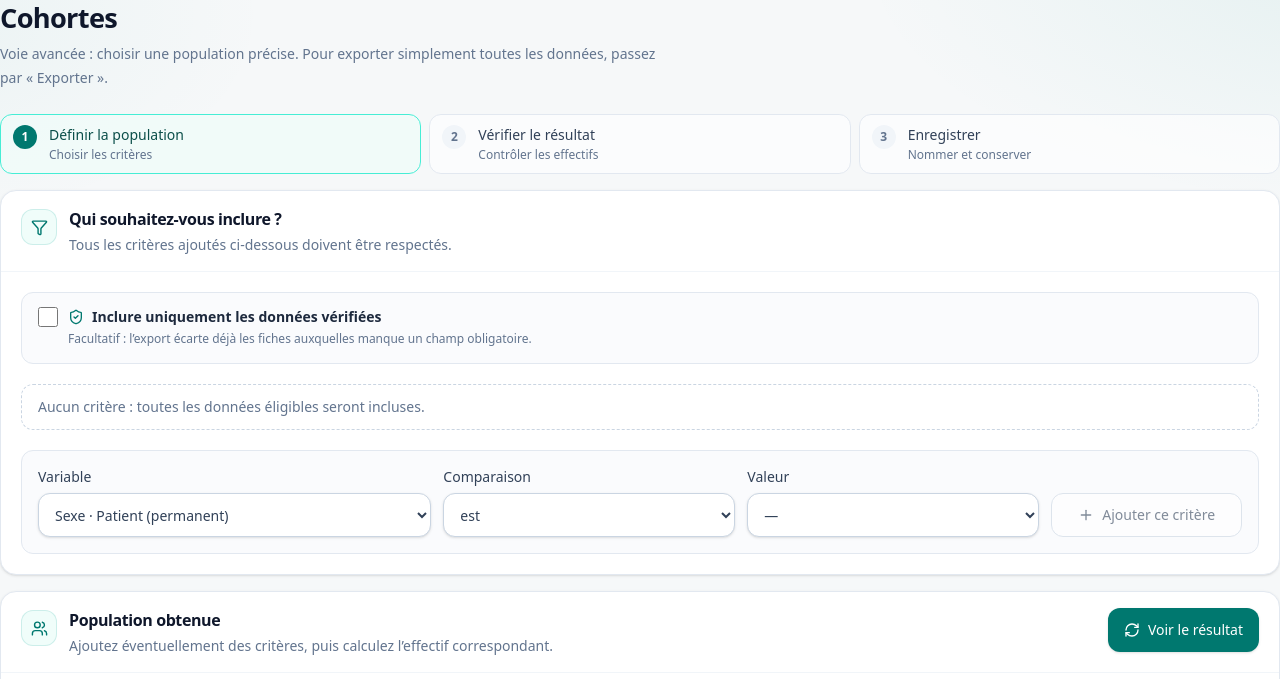
CohortBuilder › audit externe : une valeur non numerique sur un champ nombre est refusee AVANT l ajout
Expected: the heading "Cohortes" is shown, [0, 0, 117, 36]
Expected: the dropdown labelled "Valeur" is shown, [747, 493, 1039, 537]
Select "Poids · Patient (permanent)" in the dropdown labelled "Variable" at (235, 515), box [38, 493, 431, 537]
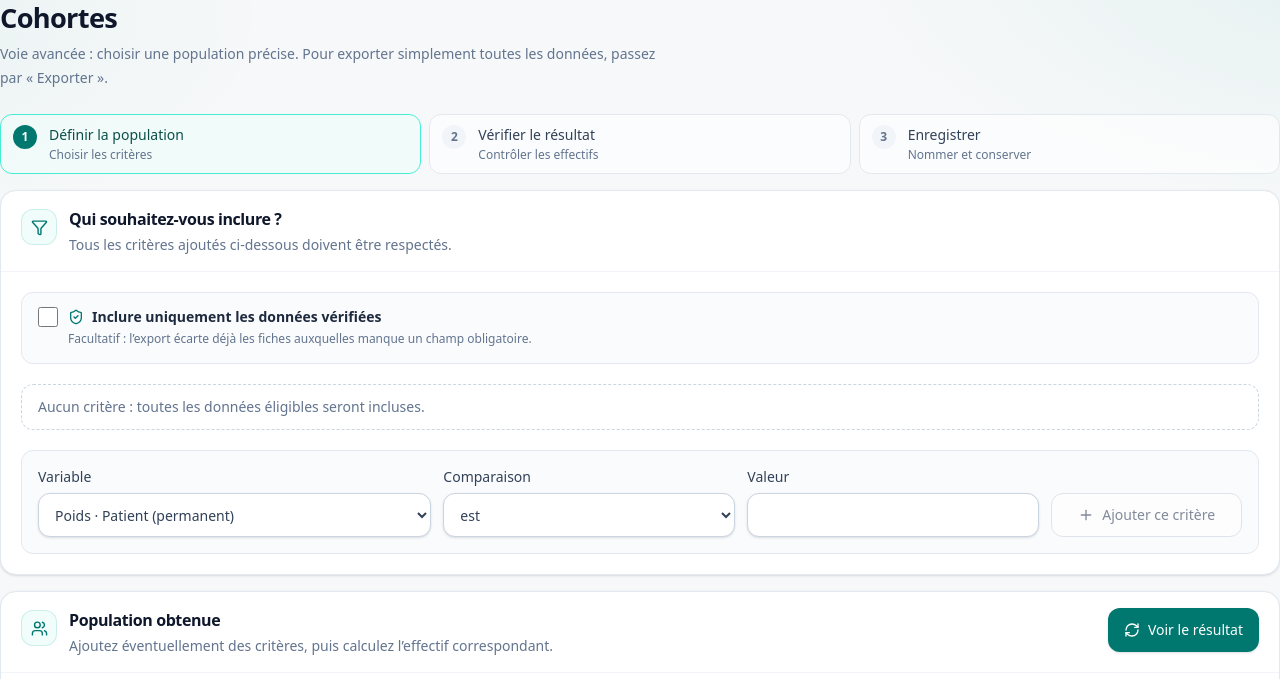
Type "abc" into the field labelled "Valeur" at (893, 515), box [747, 493, 1039, 537]
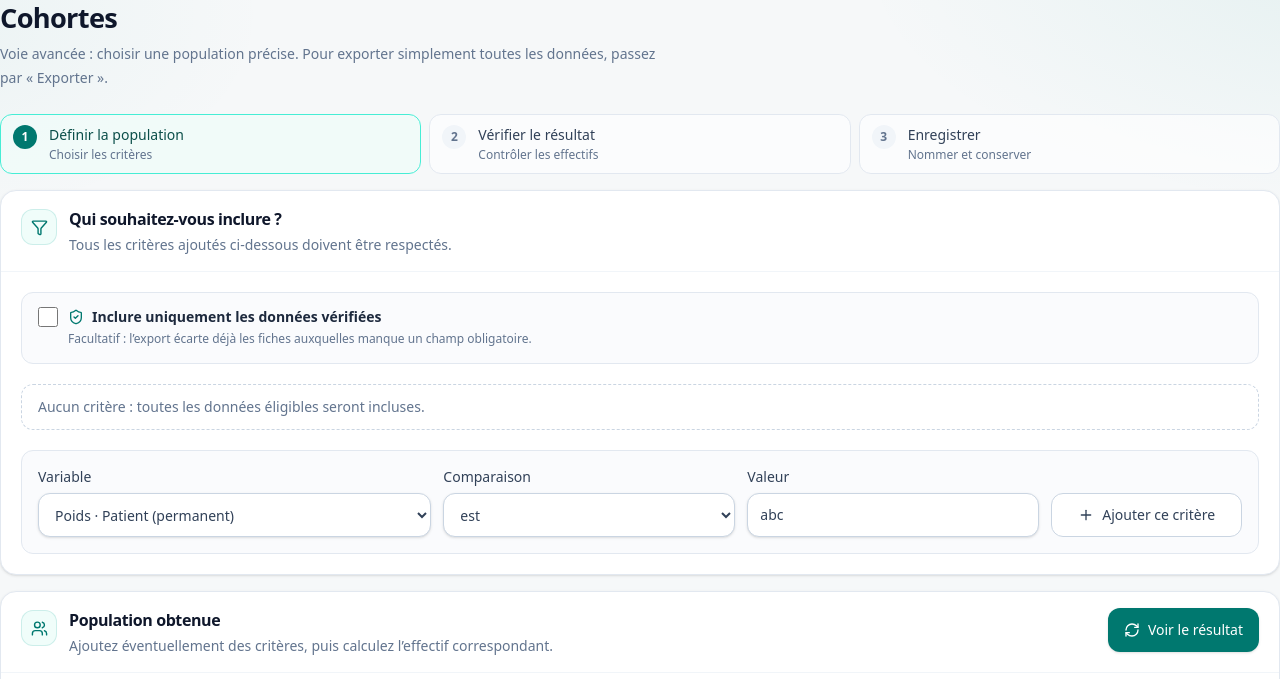
Click the button "Ajouter ce critère" at (1147, 515), box [1051, 493, 1242, 537]
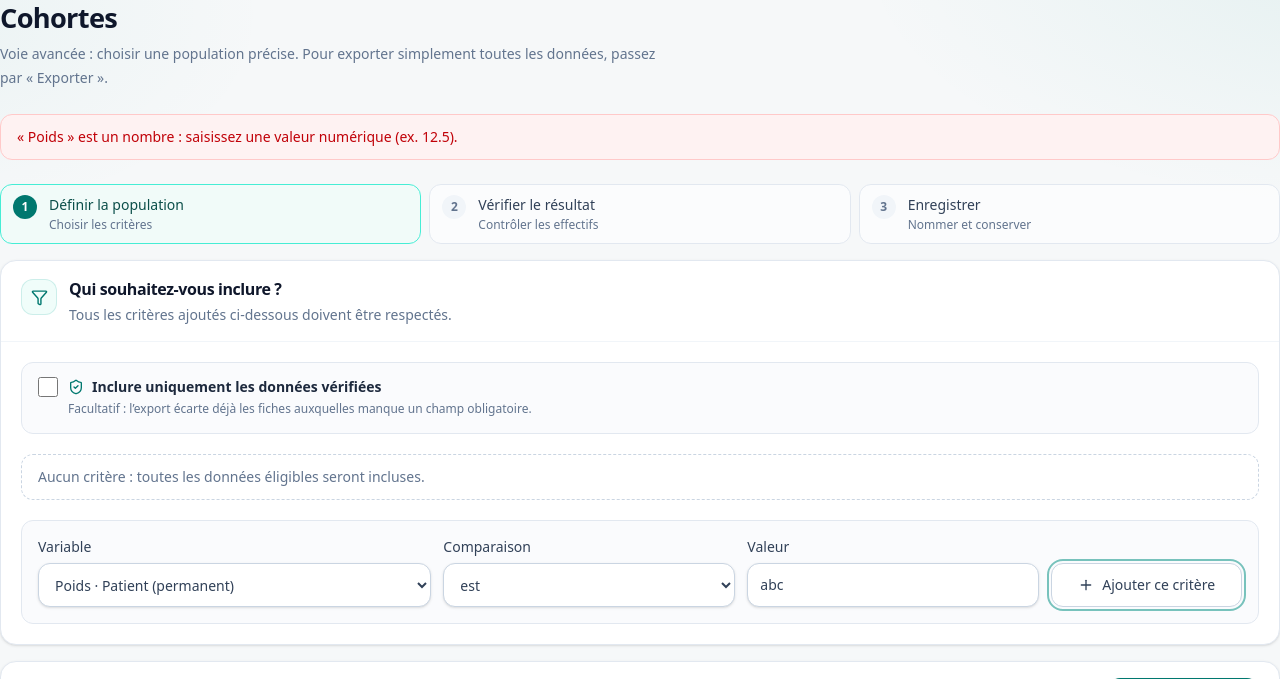
Expected: the button "Retirer" is not shown
Expected: the message reads "« Poids » est un nombre : saisissez une valeur numérique (ex. 12.5).", [17, 127, 458, 146]
Virgule decimale toleree : « 12,5 » passe et est normalisee en « 12.5 ».
Replace the text in the field labelled "Valeur" with "12,5" at (893, 585), box [747, 563, 1039, 607]
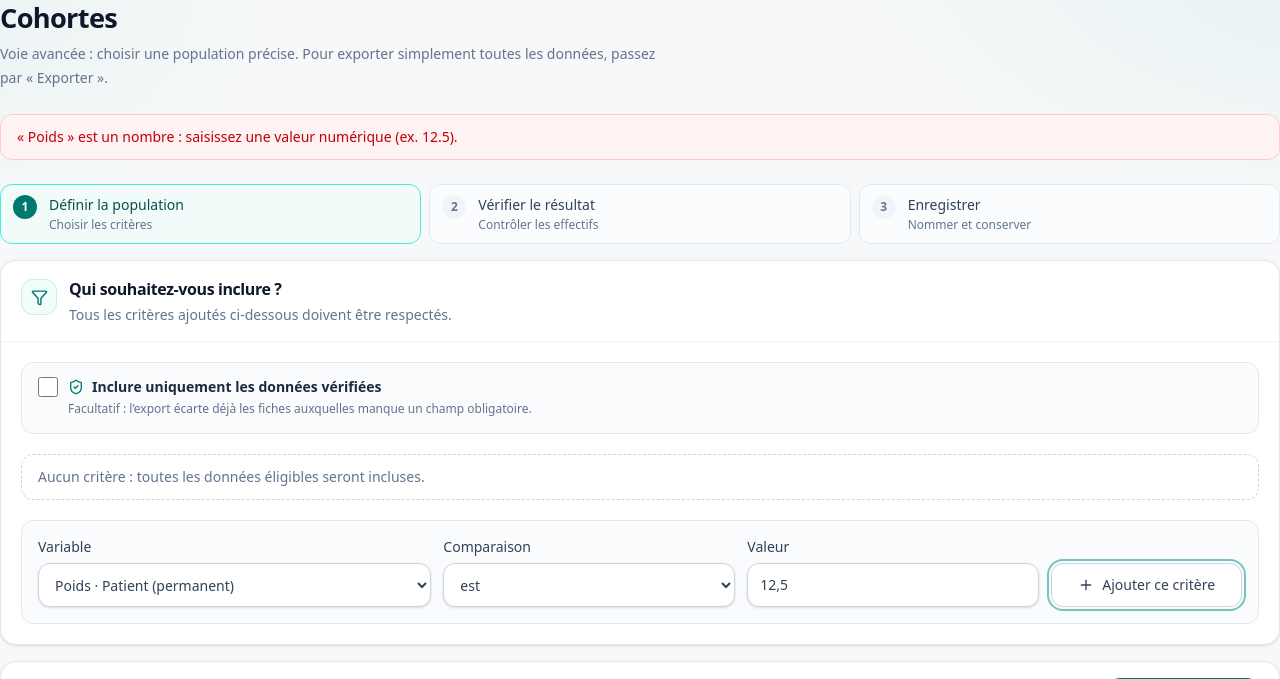
Click the button "Ajouter ce critère" at (1147, 585), box [1051, 563, 1242, 607]
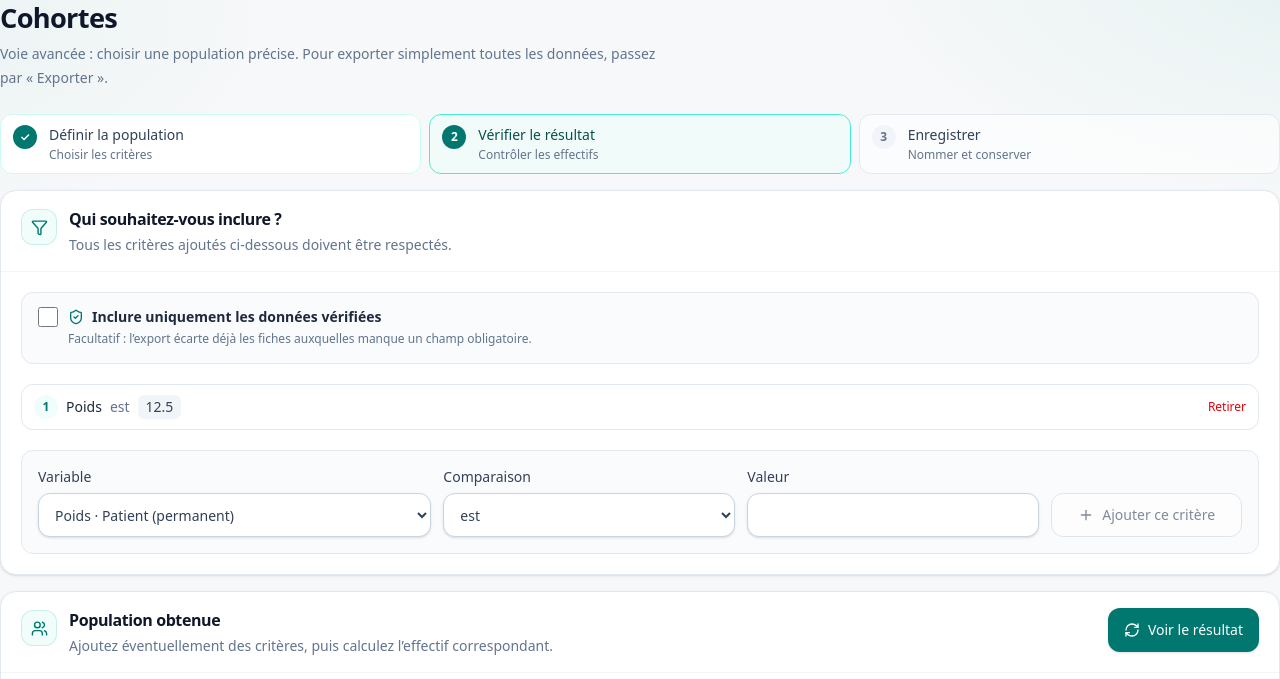
Expected: the text "12.5" is shown, [138, 395, 181, 419]
Expected: the button "Retirer" is shown, [1208, 399, 1246, 415]
